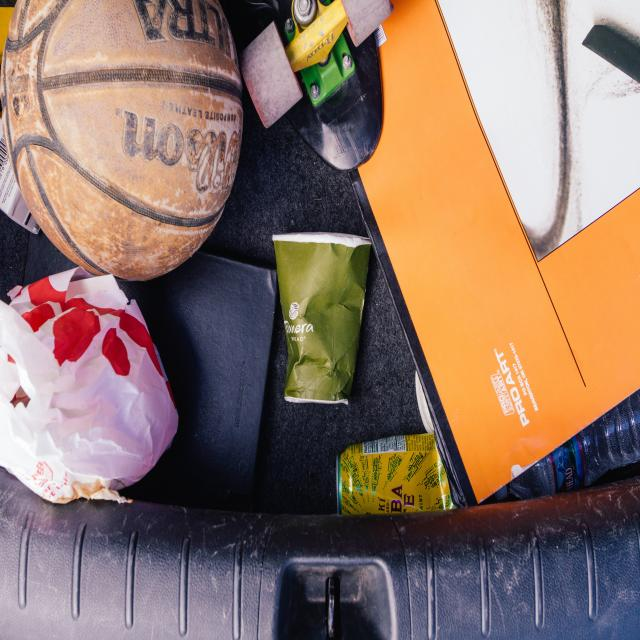metal: (334, 443, 441, 508)
plastic: (23, 316, 156, 484), (279, 228, 363, 401)
